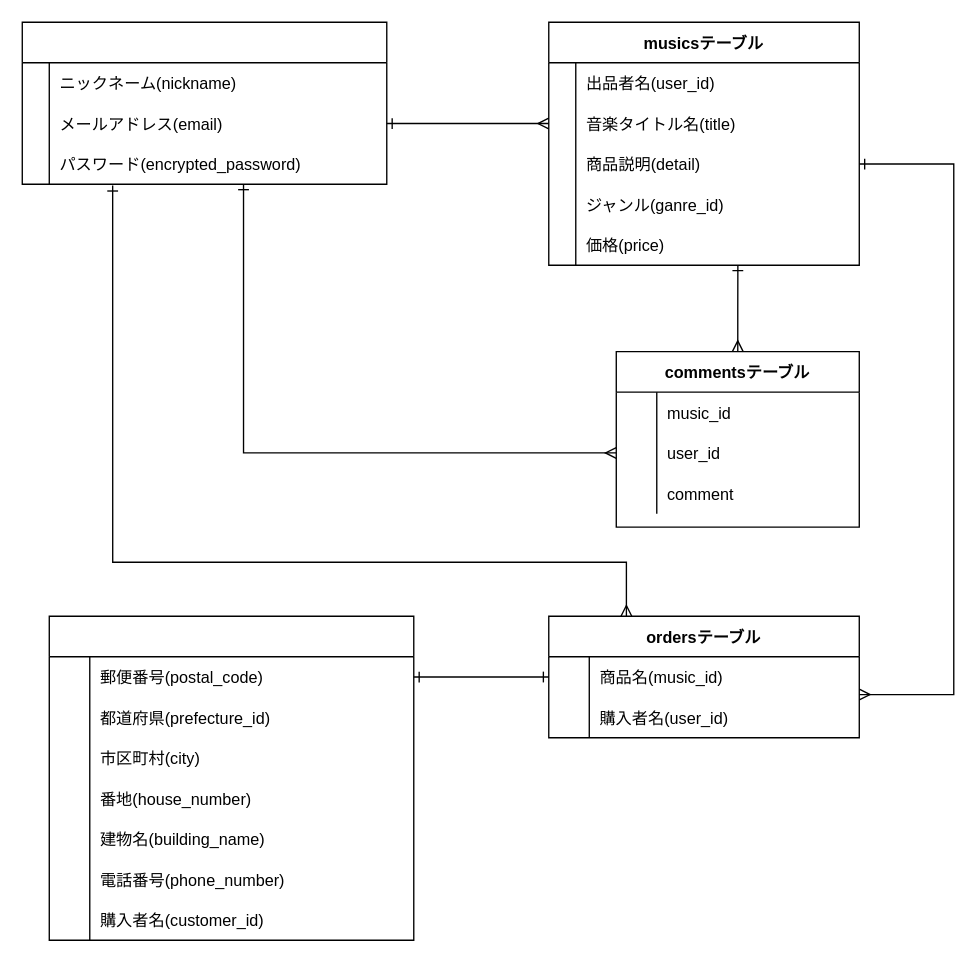
Image size: 976x963. Some labels were removed from this diagram. The shapes that lost their labels are listed below. From the top down, each one's box as (x1, y1, x2, y2) in pixels, then its label:
(21, 21, 387, 184): usersテーブル
(48, 615, 414, 940): addressesテーブル
